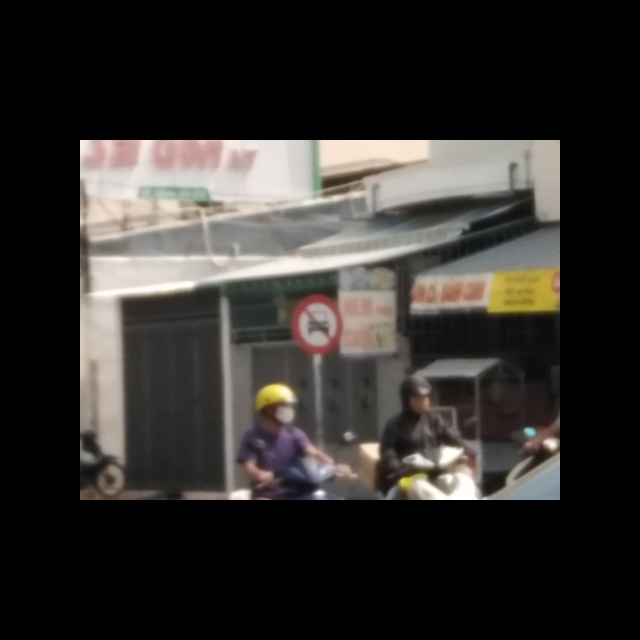Cấm xe ô tô: (289, 291, 345, 354)
